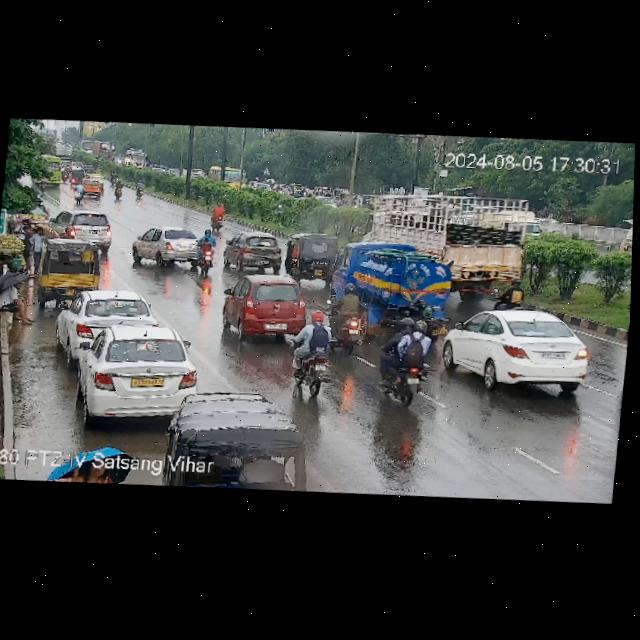bus: (209, 165, 245, 188), (122, 149, 149, 167)
car: (165, 385, 313, 493), (441, 304, 601, 402), (73, 318, 200, 423), (217, 270, 314, 344), (58, 285, 156, 350), (35, 235, 105, 294), (128, 222, 202, 269), (46, 207, 119, 248), (284, 231, 338, 278), (225, 229, 283, 271), (83, 178, 101, 196), (87, 172, 104, 191), (69, 168, 83, 185), (313, 185, 330, 196), (289, 183, 302, 194)
motorcycle: (380, 312, 432, 403), (291, 308, 330, 395), (325, 280, 367, 350), (196, 229, 217, 273), (207, 200, 228, 231), (134, 179, 146, 200), (113, 179, 124, 199), (75, 180, 85, 202), (109, 169, 116, 185), (62, 167, 69, 183)
person: (0, 271, 38, 327), (20, 224, 35, 268), (30, 226, 45, 270)
truck: (352, 186, 537, 295), (334, 236, 447, 328), (90, 140, 115, 160)
